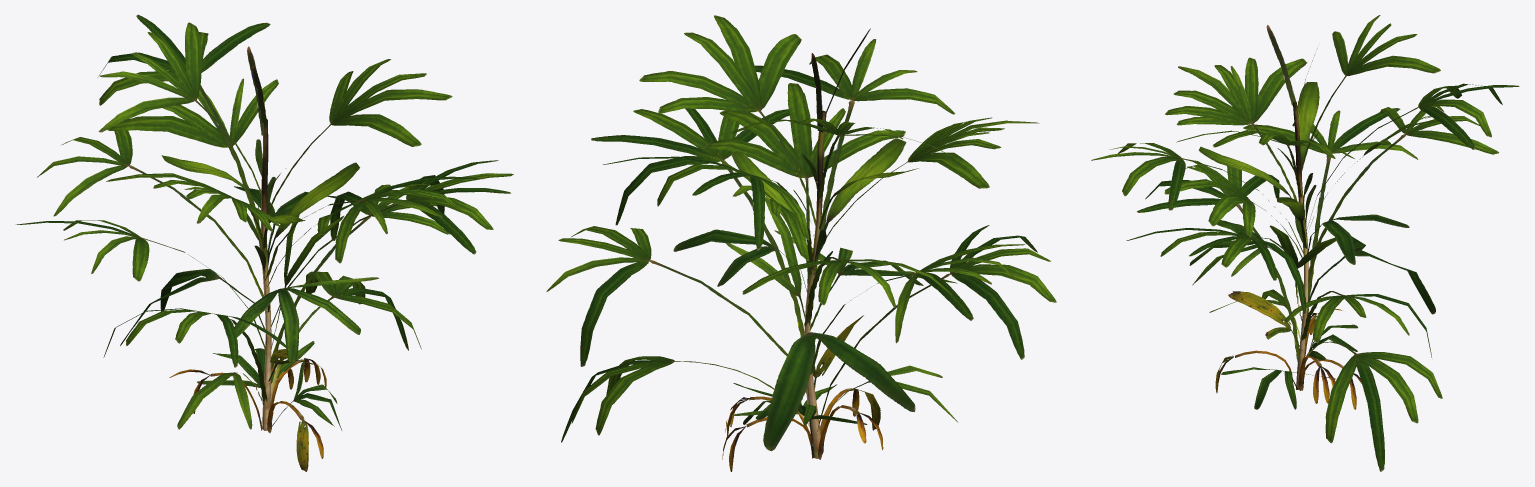
The model's file is lady_palm.glb.
The picture shows the model from 3 angles, left to right: view 1: azimuth 30°, elevation 25°; view 2: azimuth 150°, elevation 25°; view 3: azimuth 270°, elevation 25°; orthographic projection. The views are drawn at different scales.
Visible parts, largest first — view 1: Megascans lady_palm; view 2: Megascans lady_palm; view 3: Megascans lady_palm.
Boxes of the visible parts, <box> form: Megascans lady_palm: <box>15,14,513,471</box>; Megascans lady_palm: <box>546,15,1056,471</box>; Megascans lady_palm: <box>1091,15,1519,471</box>.
Bounding box in the file's own units: 1.07 × 0.9656 × 1.05.
Materials: 1 (1 with a texture image).
